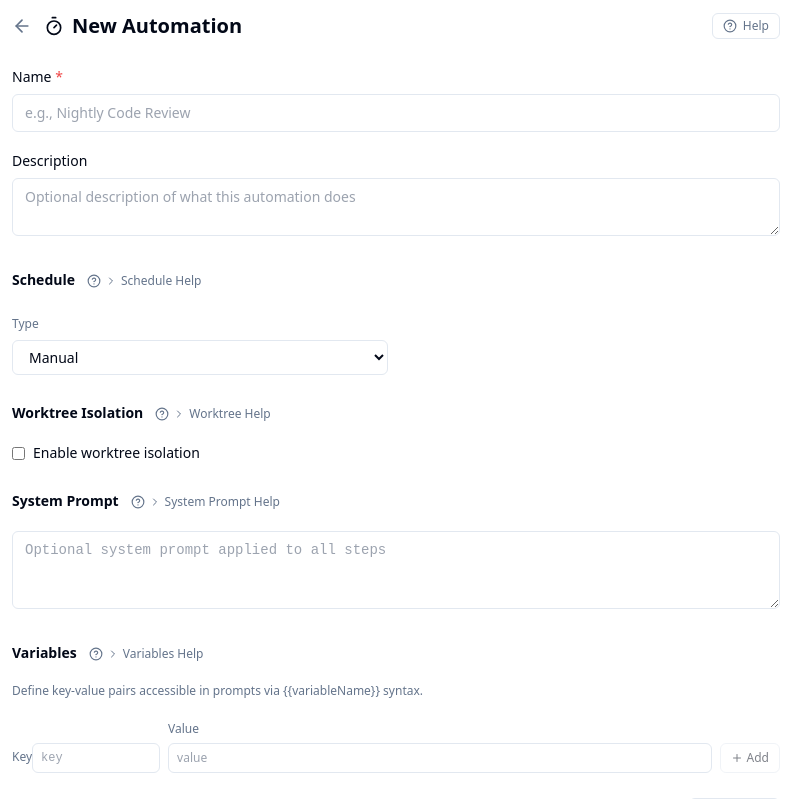
Scenario: AutomationEditorPage › shows cron expression input when schedule type is set to cron
The image size is (797, 799).
Check: the field labelled "Cron Expression" is not shown
Note: Change schedule type to cron
Select "Cron" in the dropdown labelled "Type" at (200, 358), box top-left (12, 340), bottom-right (388, 375)
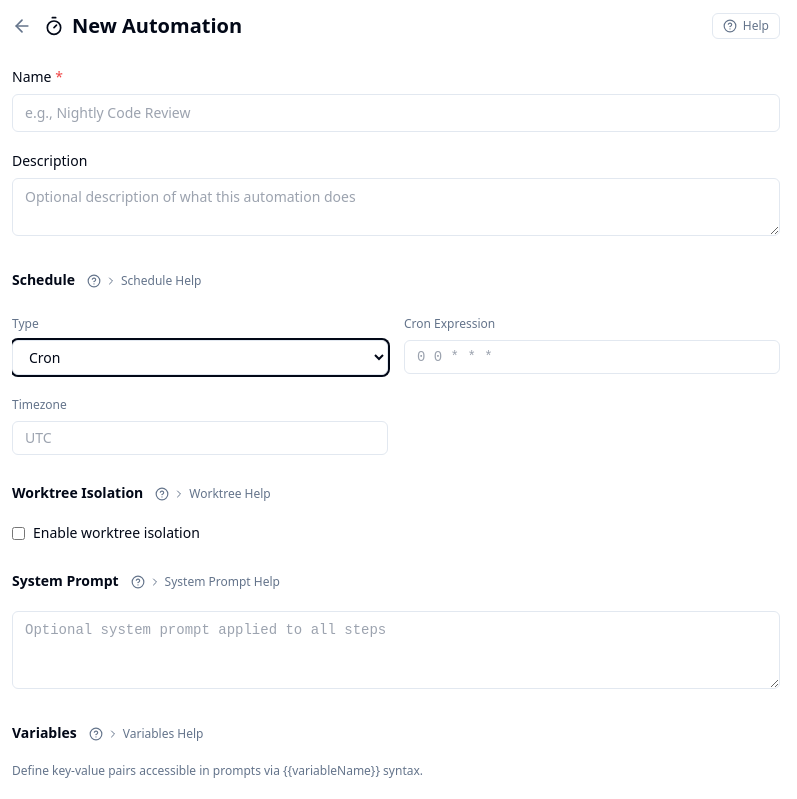
Check: the field labelled "Cron Expression" is shown, box top-left (404, 340), bottom-right (780, 374)
Check: the field labelled "Timezone" is shown, box top-left (12, 421), bottom-right (388, 455)
